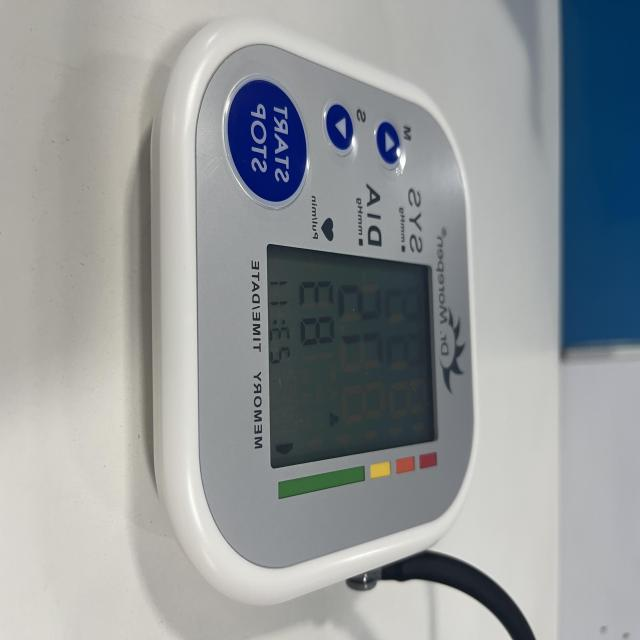bp: (144, 17, 478, 610)
